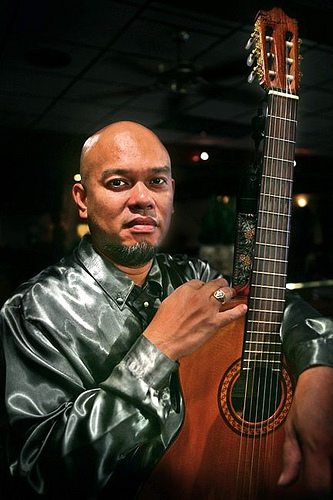guitar: (151, 4, 325, 500)
